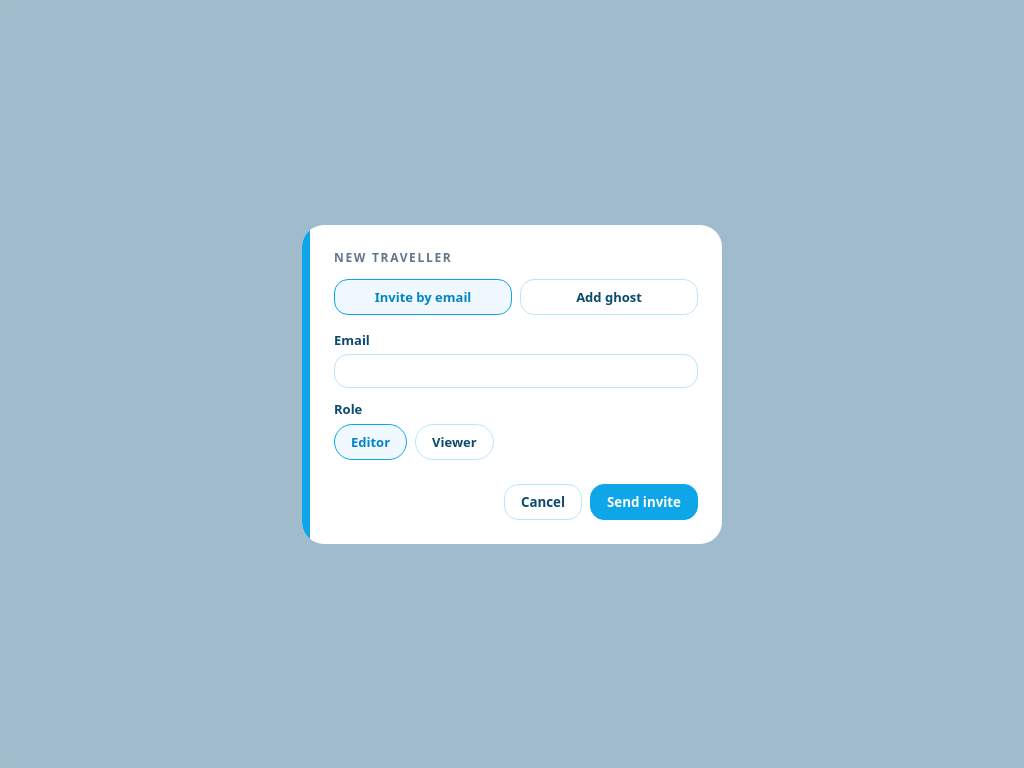
Test case: AddTravellerModal › blocks invite when the email is invalid
Type "not-an-email" into the field labelled "Email".
click(516, 371); type("not-an-email")  # box [334,354,698,388]
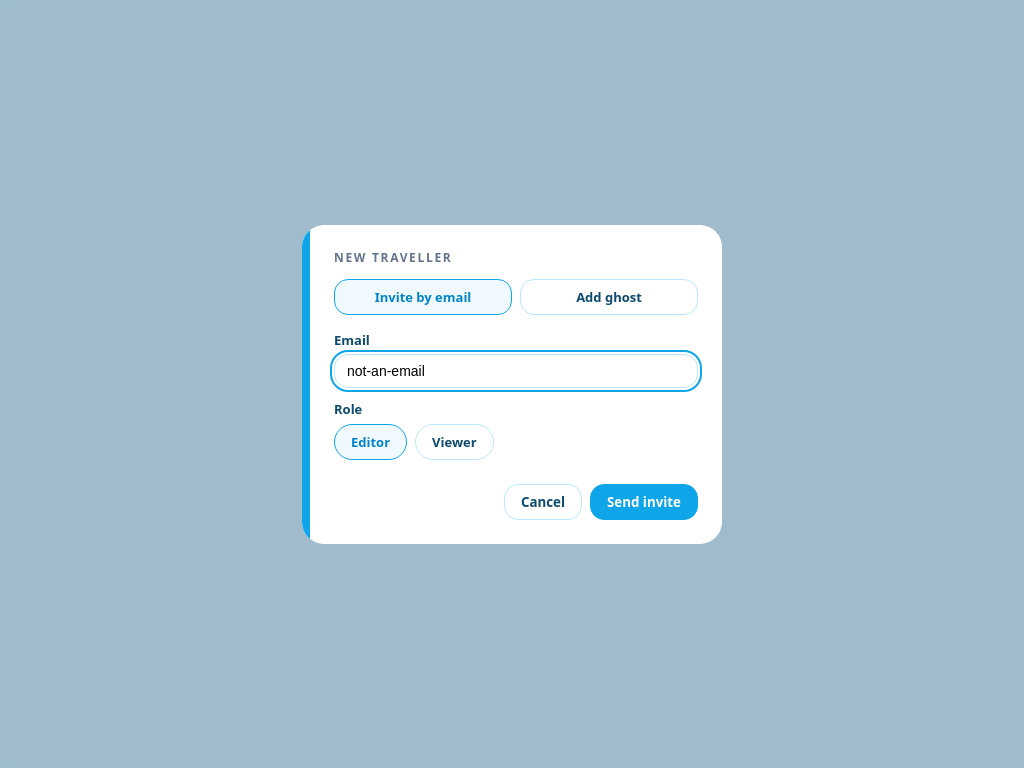
Click the button "Send invite".
click(644, 502)  # box [590,484,698,520]
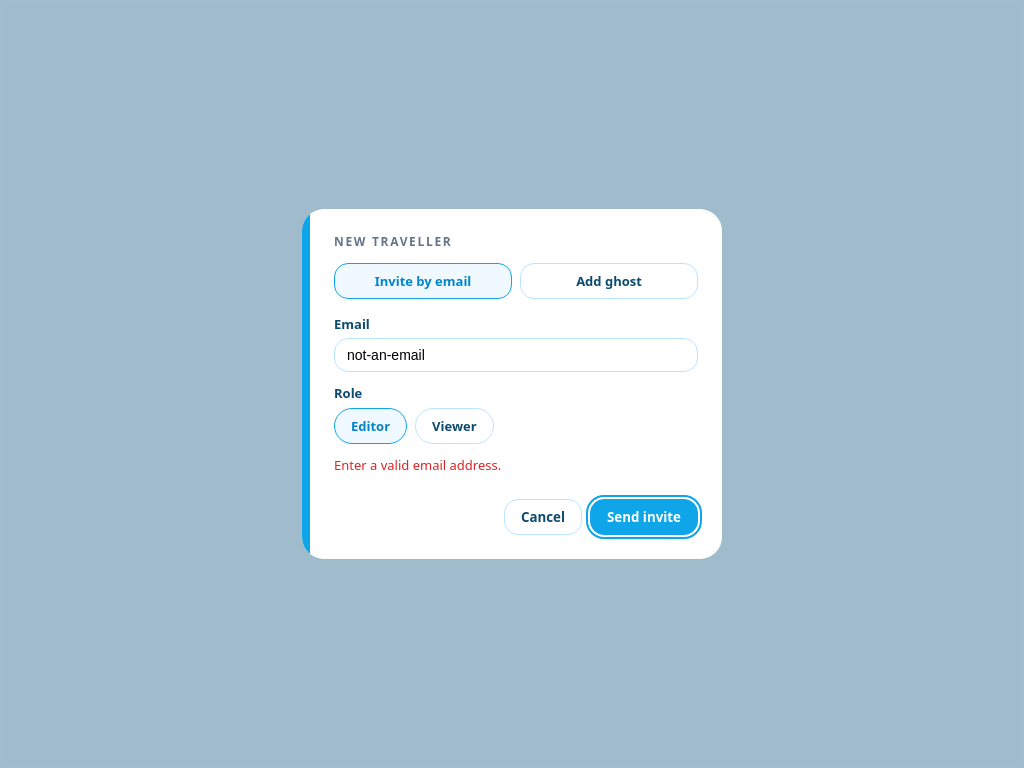
Check: the text "Enter a valid email address." is shown, box [334,456,501,474]
